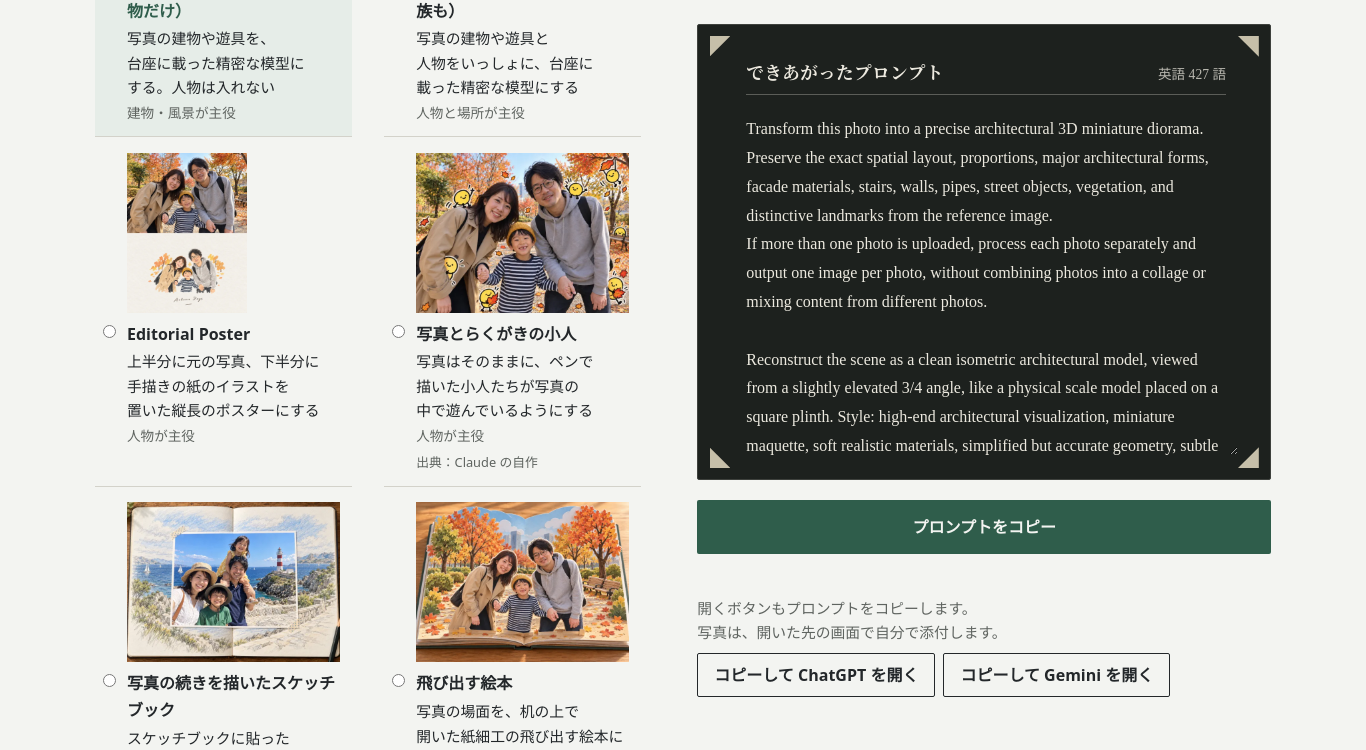
Test case: コピーと開くボタン › ChatGPT を開くと、同じクリックの中でプロンプトもコピーし、そう知らせる
(page scrolled)
What coordinates should you click on to do the following:
click the link "コピーして ChatGPT を開く"
I would click on:
 (816, 675)
Its box is [697,653,935,697].
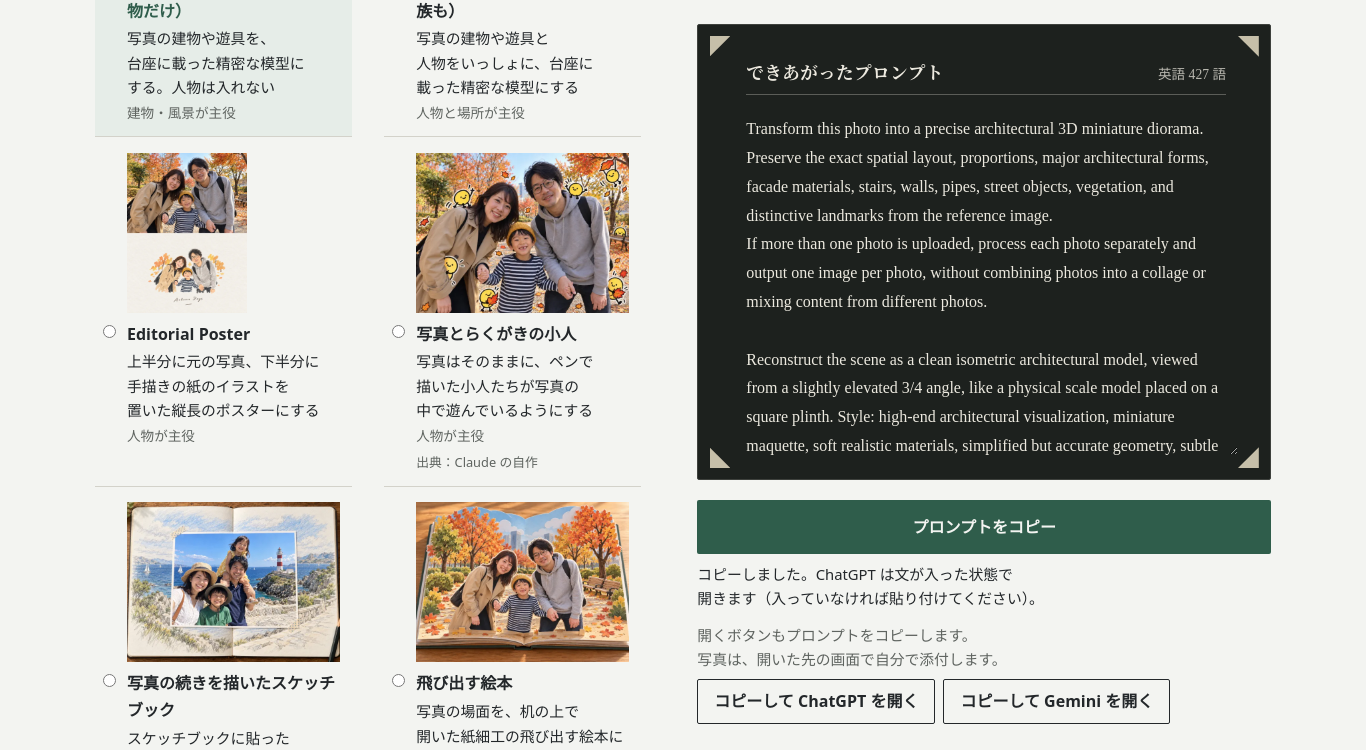
expect the text "コピーしました。ChatGPT は文が入った状態で開きます（入っていなければ貼り付けてください）。" is shown: met, box [697,564,1044,608]
